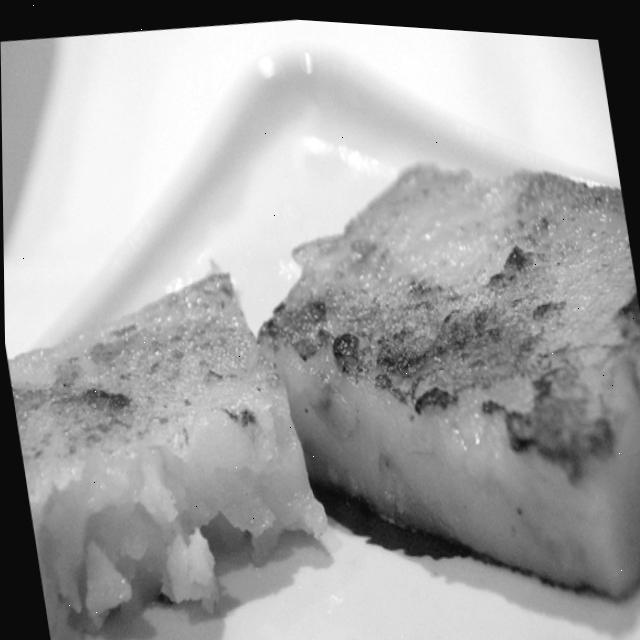蛋糕甜品: (1, 81, 640, 640)
